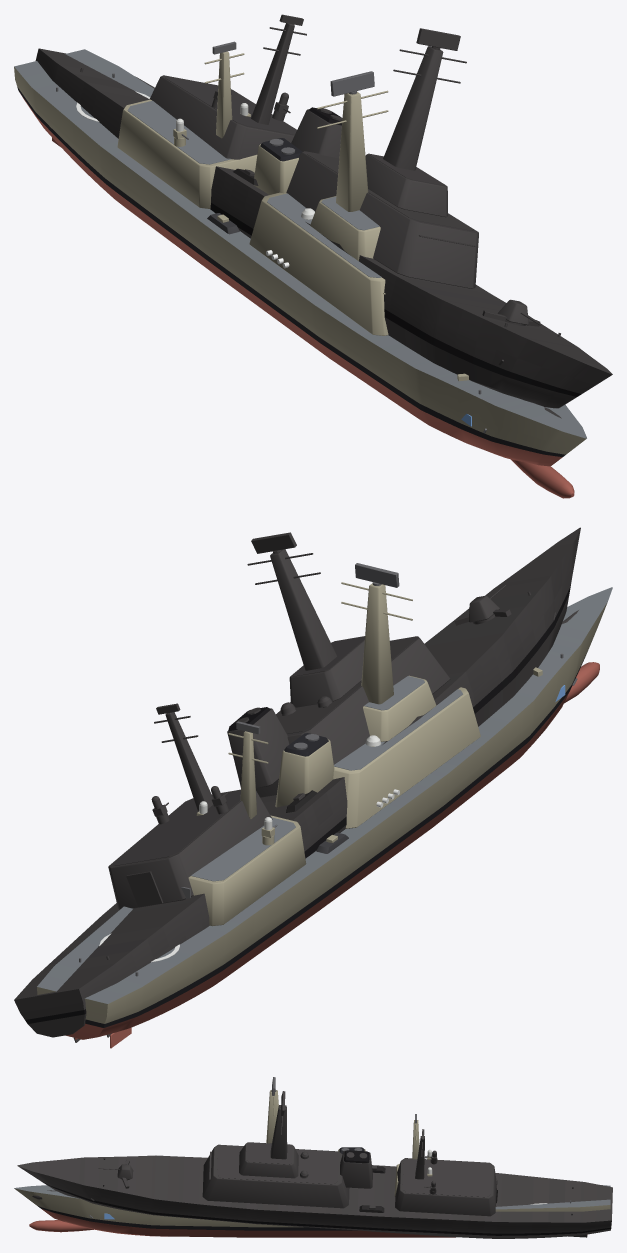
File: asFrigate__talwar_class.glb
3 views of the same model, one above another, from view 1: azimuth 30°, elevation 25°; view 2: azimuth 150°, elevation 25°; view 3: azimuth 270°, elevation 25° (orthographic). The views are drawn at different scales.
Parts seen in each view (by area): view 1: Hull_Mesh, Wreck, Radar_Mesh; view 2: Hull_Mesh, Wreck, Radar_Mesh; view 3: Wreck, Hull_Mesh.
Boxes of the visible parts, x1=… form: Hull_Mesh: x1=14, y1=41, x2=586, y2=498; Wreck: x1=35, y1=14, x2=612, y2=418; Radar_Mesh: x1=330, y1=71, x2=374, y2=96; Hull_Mesh: x1=37, y1=582, x2=612, y2=1048; Wreck: x1=14, y1=527, x2=580, y2=1042; Radar_Mesh: x1=355, y1=563, x2=399, y2=587; Wreck: x1=17, y1=1091, x2=612, y2=1238; Hull_Mesh: x1=14, y1=1090, x2=610, y2=1237.
Size of what is drawn, in the model's own units: 24.57 by 39.15 by 131.
